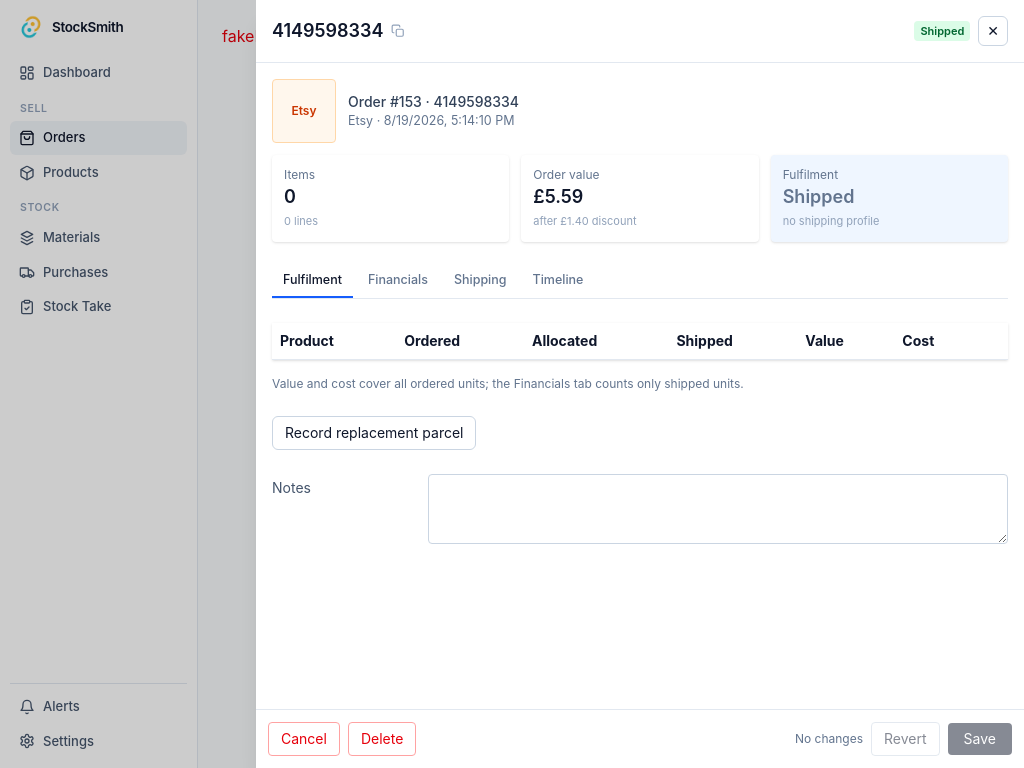
Test: omits the profile line when no profile is assigned
Click the button "Financials" at (398, 282), box [357, 266, 439, 298]
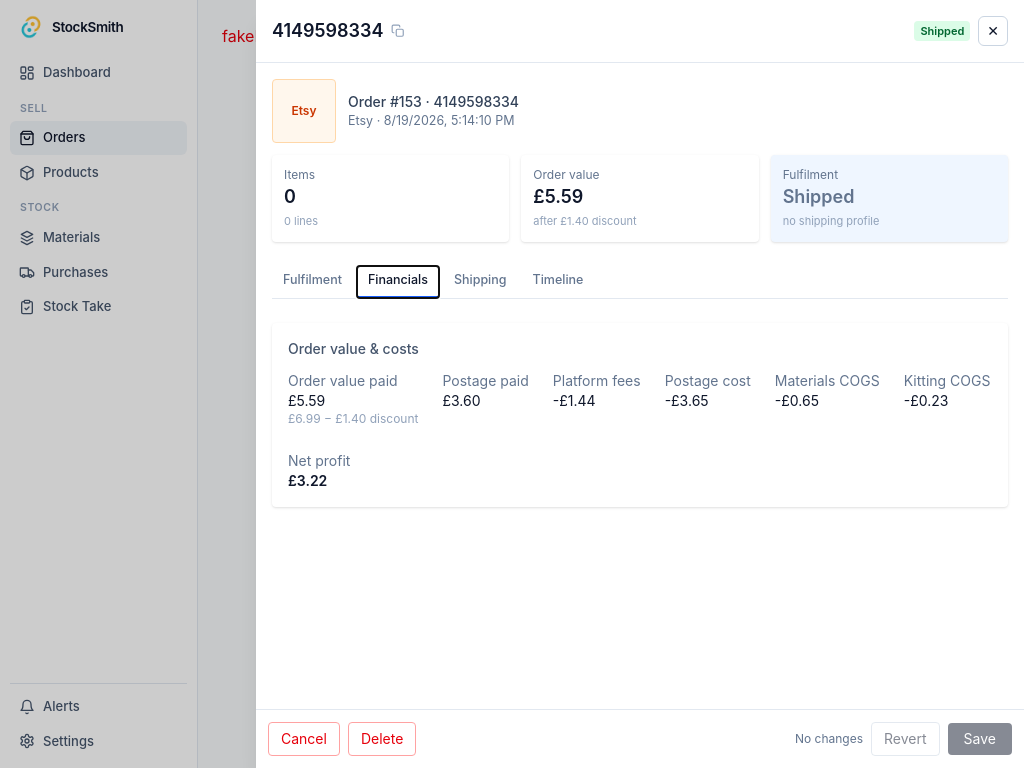
Expected: the heading "Order value & costs" is shown, [288, 340, 419, 356]
Expected: the text "Postage cost" is shown, [665, 370, 751, 390]
